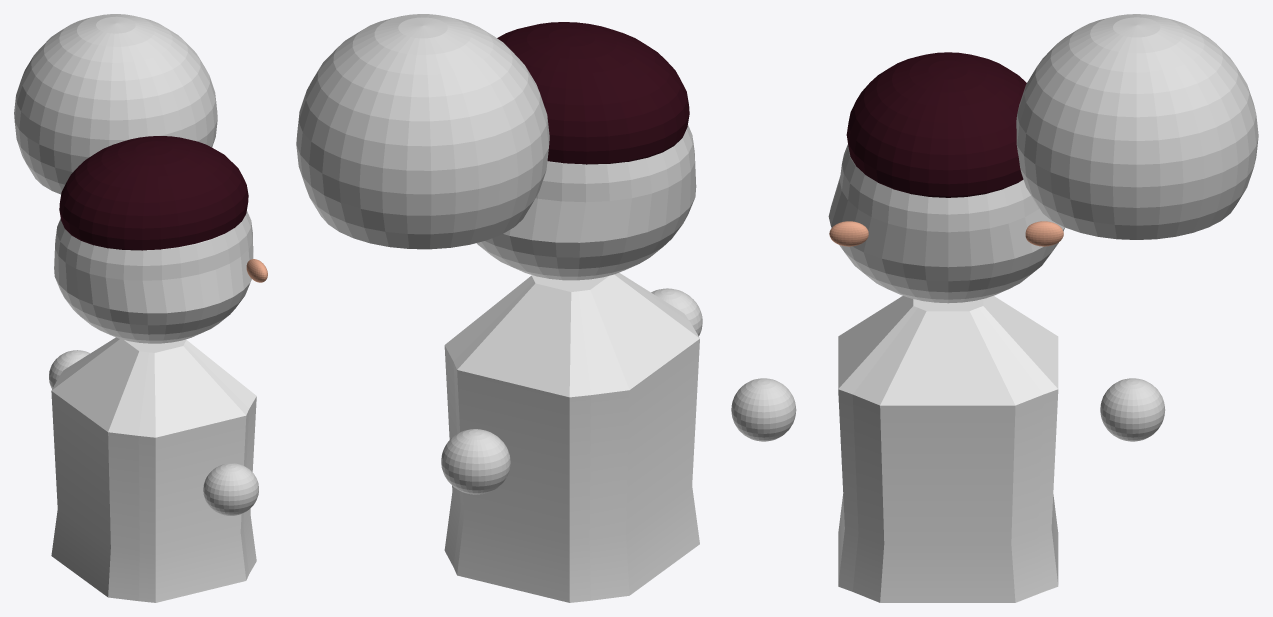
The model's file is Dean.fbx.
The picture shows the model from 3 angles, left to right: view 1: azimuth 30°, elevation 25°; view 2: azimuth 150°, elevation 25°; view 3: azimuth 270°, elevation 25°; orthographic projection. The views are drawn at different scales.
Parts seen in each view (by area): view 1: Cube, Sphere.008, Sphere.023, Sphere, Sphere.001, Sphere.004; view 2: Cube, Sphere.008, Sphere, Sphere.023, Sphere.001; view 3: Cube, Sphere.008, Sphere.023, Sphere, Sphere.001, Sphere.004.
Part boxes in pixels (x1=…): Cube: x1=51, y1=337, x2=256, y2=602; Sphere.008: x1=14, y1=14, x2=217, y2=194; Sphere.023: x1=59, y1=136, x2=248, y2=250; Sphere: x1=54, y1=211, x2=253, y2=343; Sphere.001: x1=49, y1=350, x2=258, y2=515; Sphere.004: x1=246, y1=259, x2=267, y2=282; Cube: x1=444, y1=272, x2=699, y2=602; Sphere.008: x1=296, y1=14, x2=549, y2=249; Sphere: x1=476, y1=125, x2=696, y2=280; Sphere.023: x1=497, y1=22, x2=689, y2=164; Sphere.001: x1=441, y1=288, x2=702, y2=494; Cube: x1=838, y1=296, x2=1058, y2=602; Sphere.008: x1=1016, y1=14, x2=1258, y2=239; Sphere.023: x1=846, y1=52, x2=1026, y2=197; Sphere: x1=828, y1=144, x2=1064, y2=303; Sphere.001: x1=731, y1=378, x2=1165, y2=441; Sphere.004: x1=829, y1=221, x2=1063, y2=246.
Size of the model in its own units: 246 by 505 by 432.
